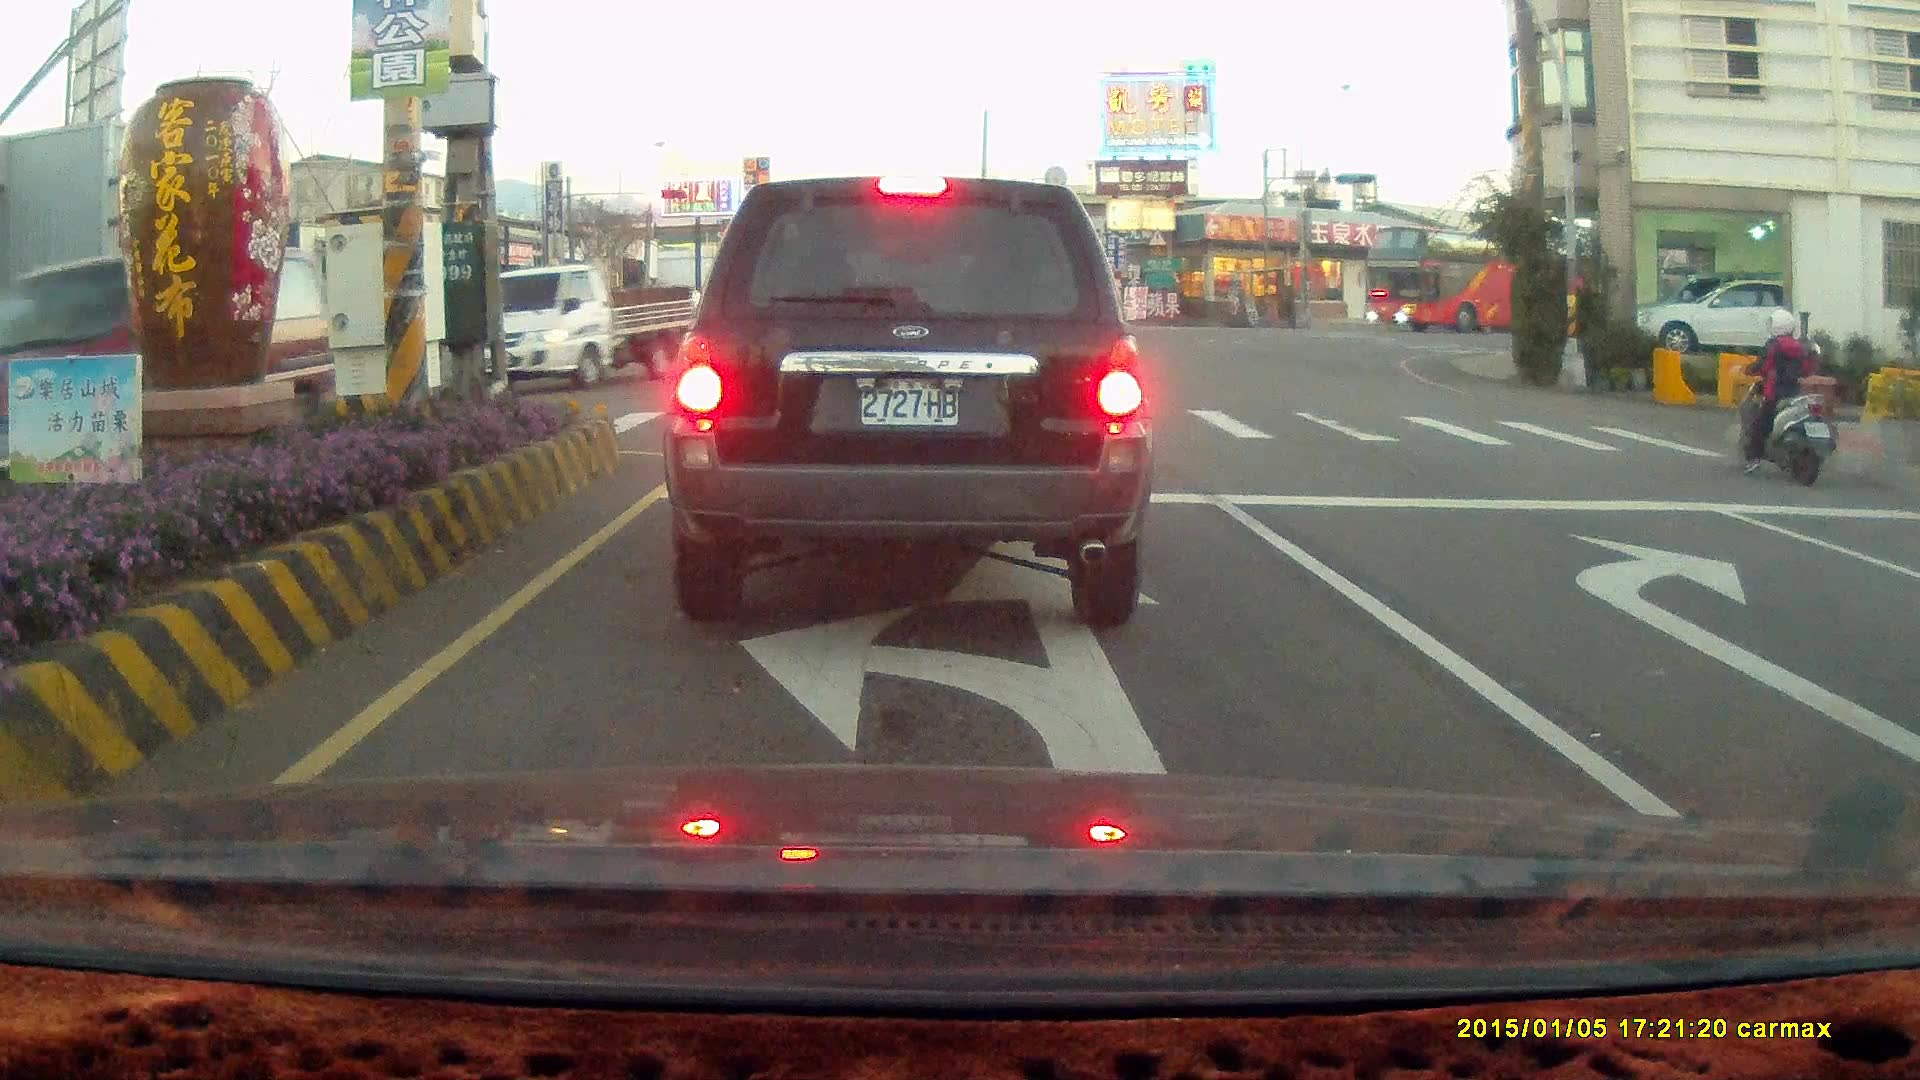rider: (1727, 308, 1832, 484)
vehicle: (660, 174, 1153, 630), (0, 244, 340, 498), (491, 260, 717, 387), (1362, 224, 1581, 334), (1621, 274, 1829, 353), (1642, 275, 1784, 356), (1896, 493, 1920, 836), (1883, 528, 1920, 690)
